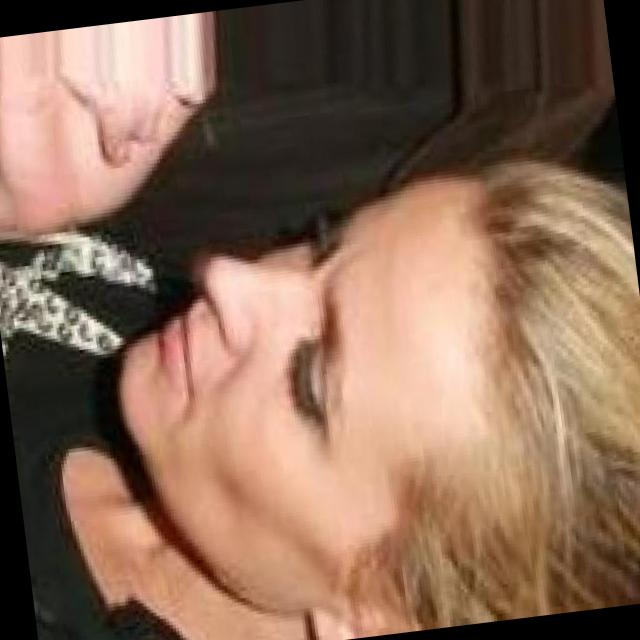bareface: (69, 133, 640, 640)
